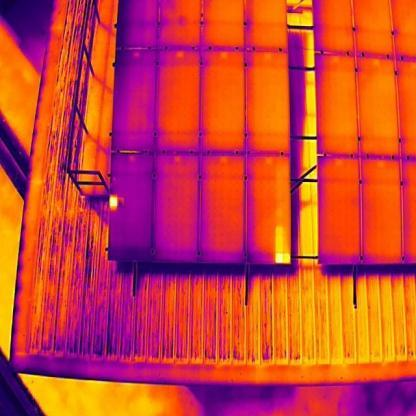anomaly: (274, 225, 293, 266), (108, 194, 120, 208)
